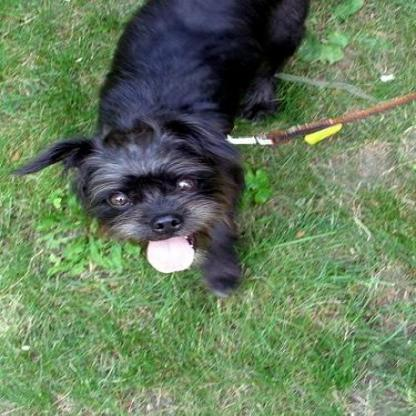affenpinscher: (12, 3, 316, 296)
